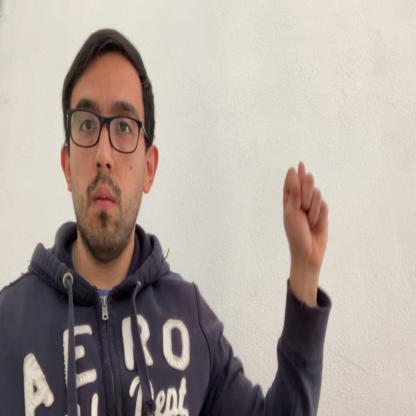T: (283, 161, 329, 271)
